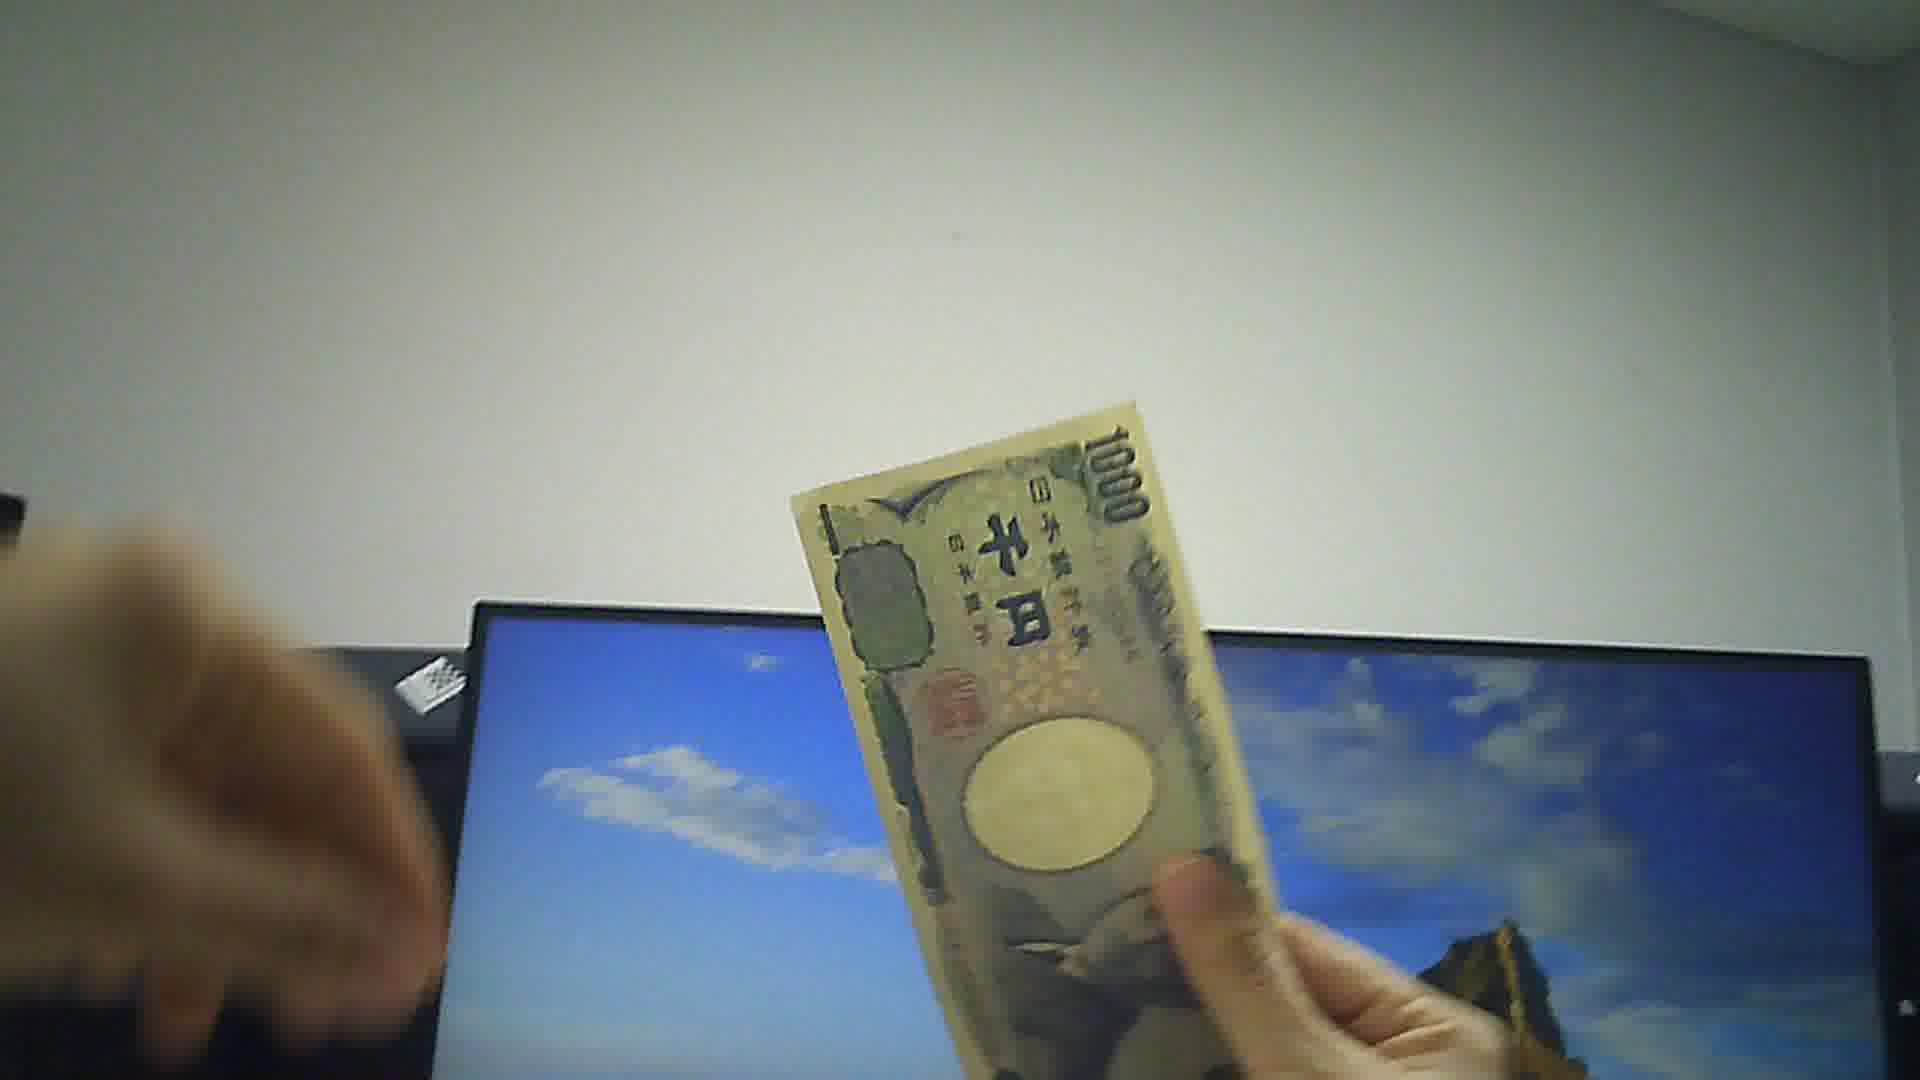1,000 Yen: (770, 400, 1338, 1079)
